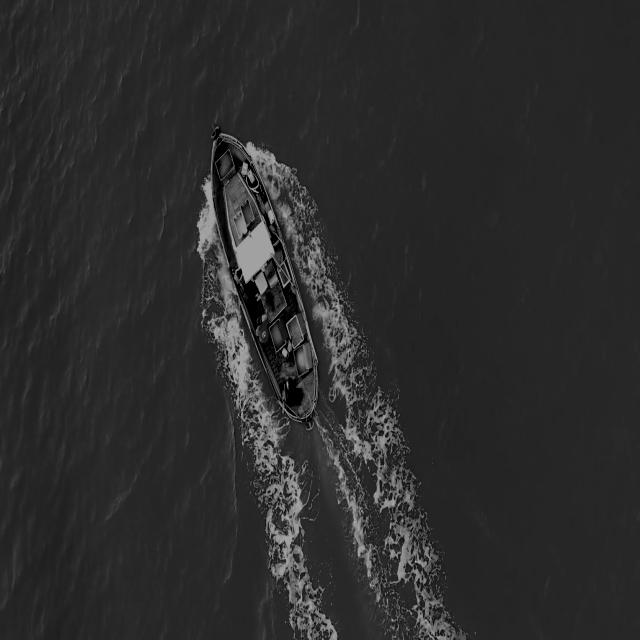ship: (205, 124, 322, 429)
